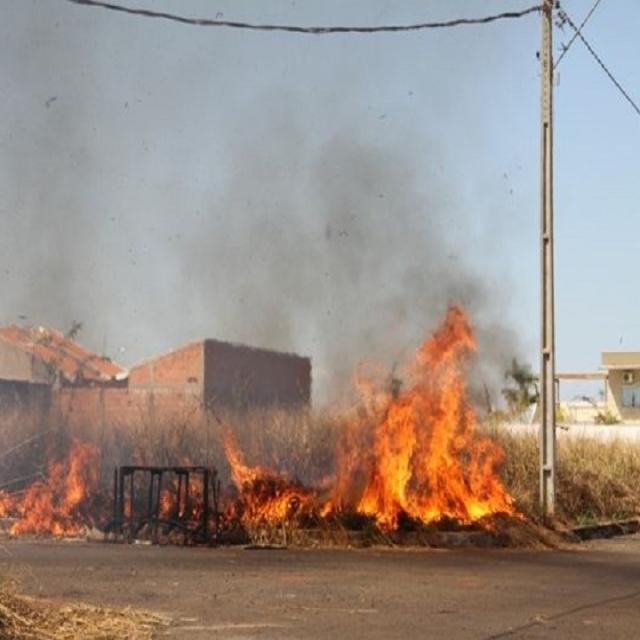Fire: (5, 307, 529, 531)
Smoke: (172, 91, 488, 300)
